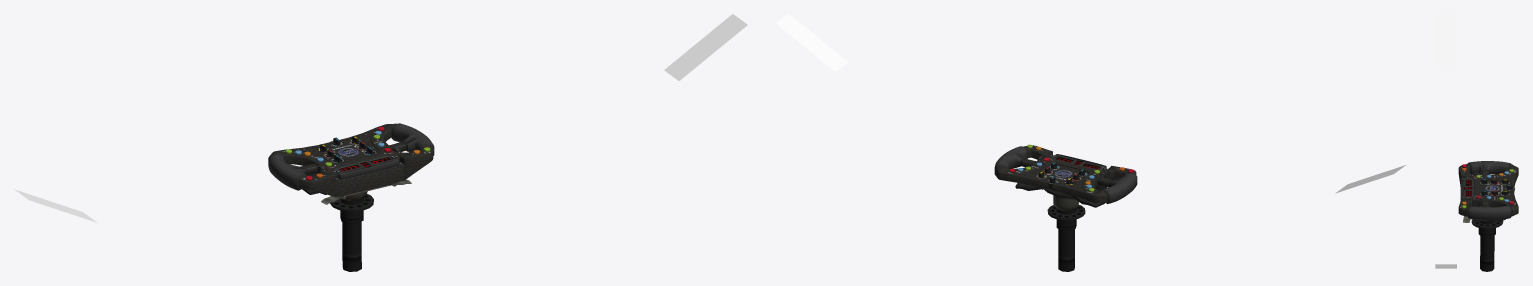
File: Wheel.obj
The picture shows the model from 3 angles, left to right: view 1: azimuth 30°, elevation 25°; view 2: azimuth 150°, elevation 25°; view 3: azimuth 270°, elevation 25°; orthographic projection. The views are drawn at different scales.
Visible parts, largest first — view 1: object__11, object__1, object__9, object__0; view 2: object__11, object__1; view 3: object__11, object__0, object__9, object__1.
Boxes of the visible parts, x1=… form: object__11: x1=268, y1=123, x2=434, y2=271; object__1: x1=664, y1=14, x2=747, y2=80; object__9: x1=332, y1=155, x2=402, y2=180; object__0: x1=14, y1=189, x2=97, y2=222; object__11: x1=994, y1=144, x2=1137, y2=271; object__1: x1=776, y1=14, x2=847, y2=71; object__11: x1=1458, y1=161, x2=1518, y2=271; object__0: x1=1435, y1=14, x2=1456, y2=66; object__9: x1=1461, y1=176, x2=1473, y2=199; object__1: x1=1435, y1=264, x2=1456, y2=268.
Size of what is drawn, in the model's own units: 1.4 by 0.3395 by 0.198.
6 materials, 5 textured.
